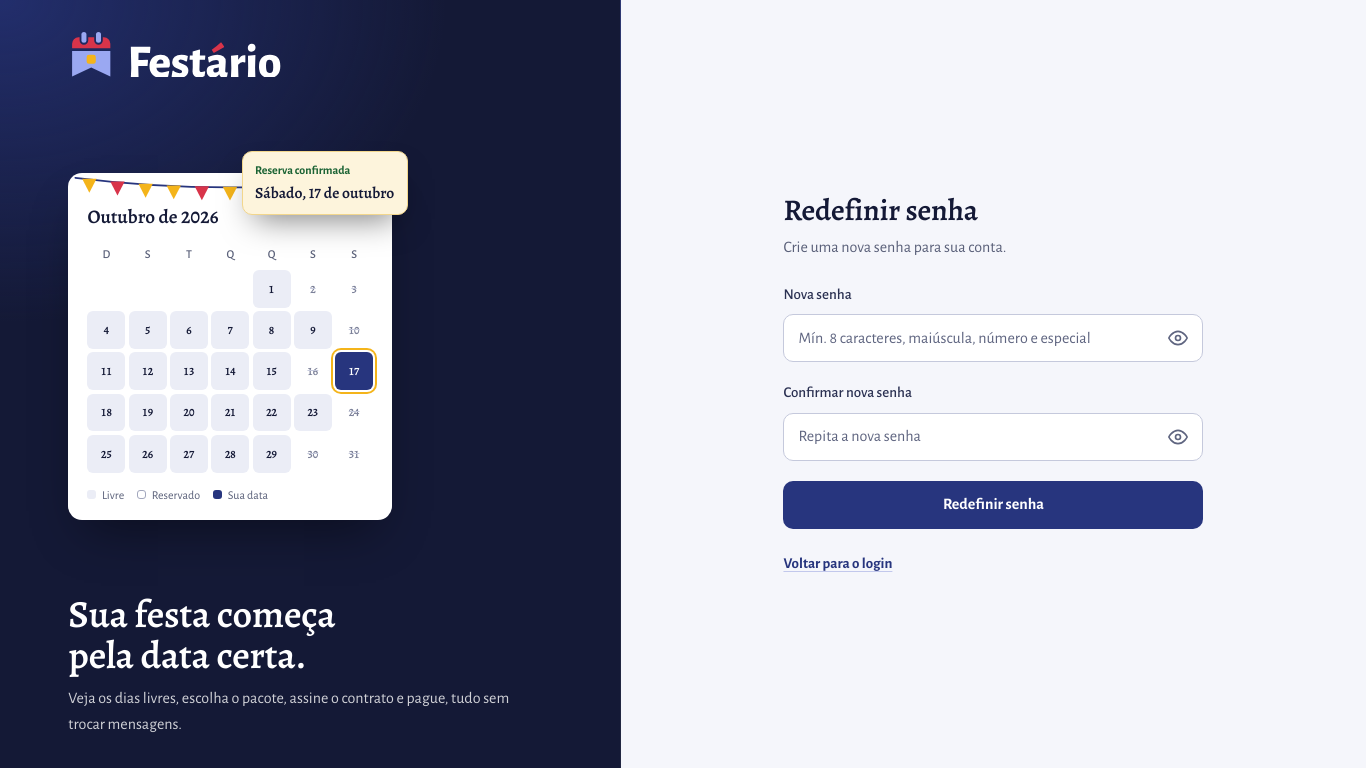
Scenario: ResetPassword page › shows error when both fields are empty
Click the button "Redefinir senha": (993, 505) [783,481,1203,529]
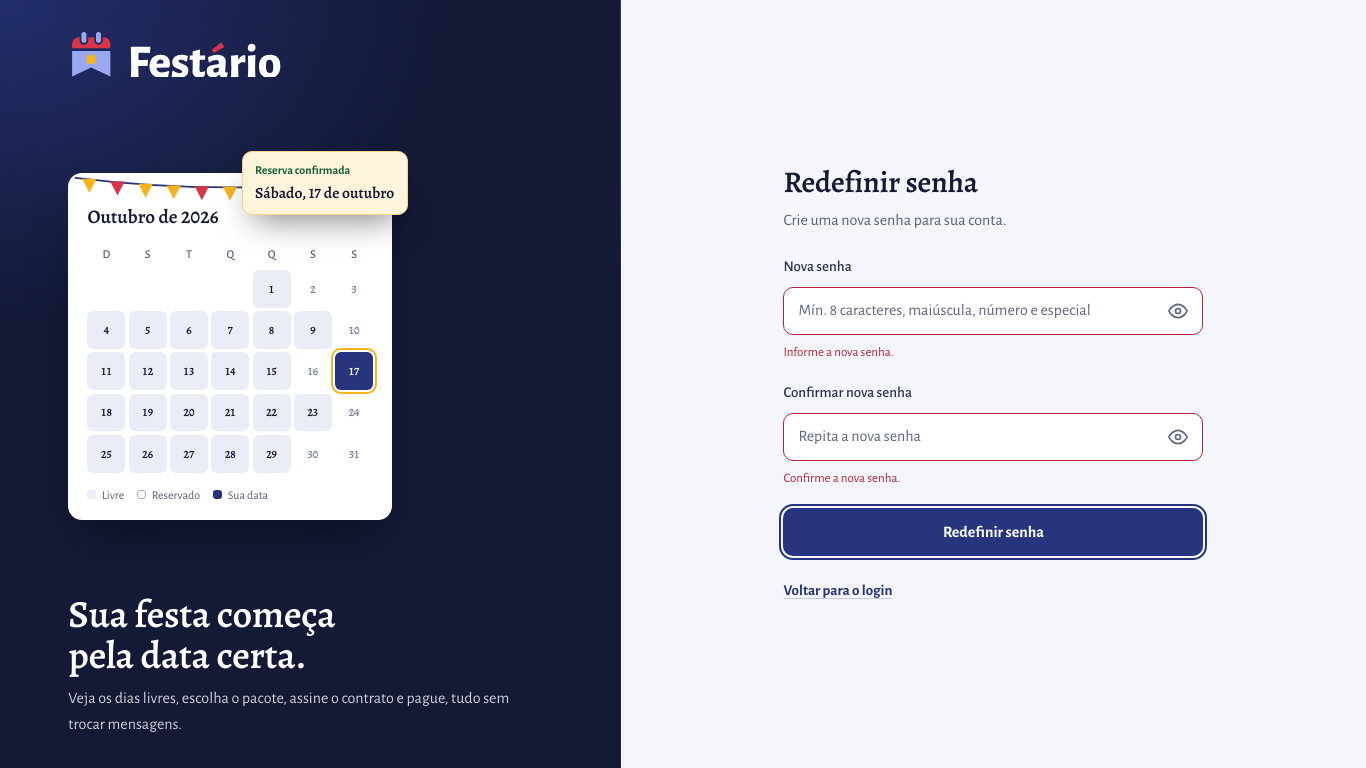
Expected: the text "Informe a nova senha." is shown, [783,346,894,359]
